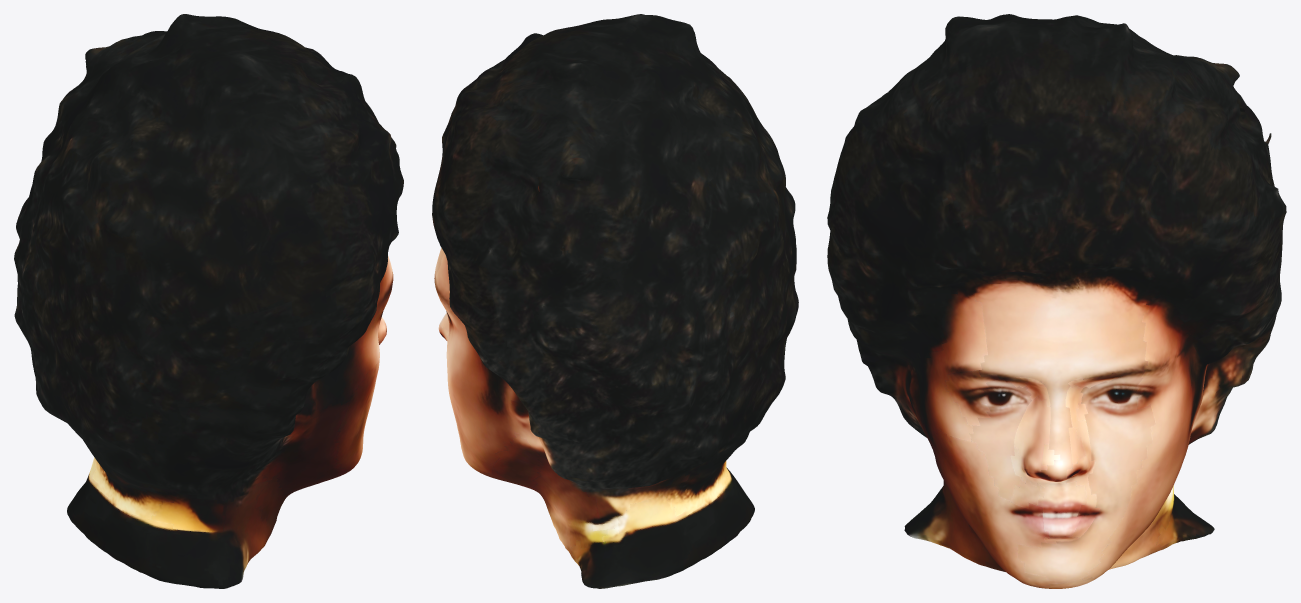
File: bruno_mars.glb
3 views of the same model, side by side, from view 1: azimuth 30°, elevation 25°; view 2: azimuth 150°, elevation 25°; view 3: azimuth 270°, elevation 25° (orthographic). The views are drawn at different scales.
Parts seen in each view (by area): view 1: Object_2; view 2: Object_2; view 3: Object_2.
Boxes of the visible parts, box(x1,y1,x2,y2) form: Object_2: box(14, 14, 403, 588); Object_2: box(432, 14, 798, 588); Object_2: box(827, 14, 1286, 588).
Size of the model in its own units: 0.5192 by 0.746 by 0.58.
1 material, 1 textured.
